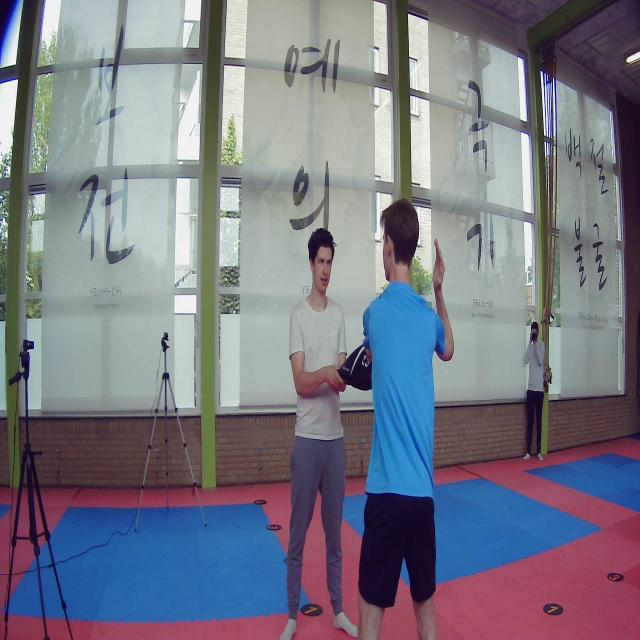paddle: (336, 345, 373, 391)
